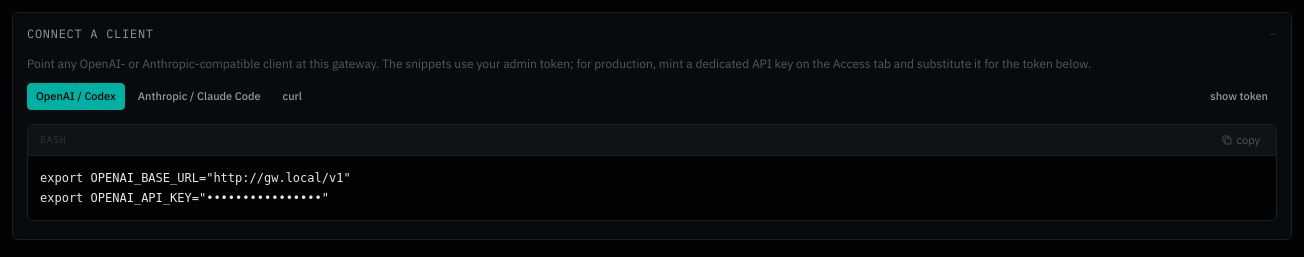
ConnectYourClient › masks the token until the operator clicks 'show token'
Check: the text "OPENAI_API_KEY=" is shown, box [40, 171, 351, 205]
Click the button "show token": (1239, 96) [1201, 83, 1277, 110]
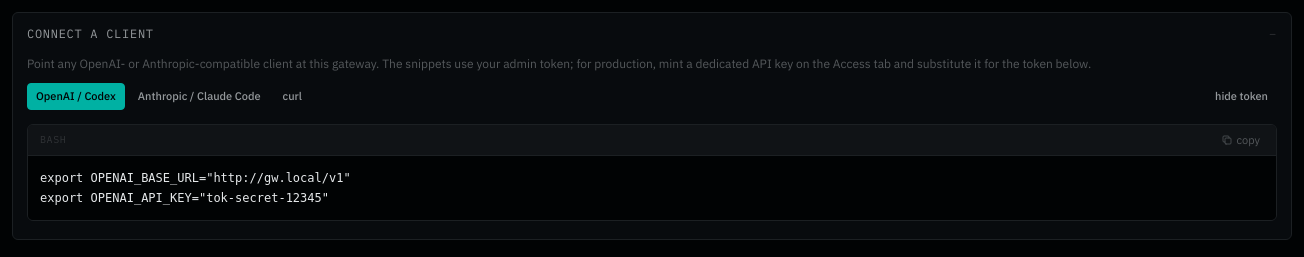
Check: the text "tok-secret-12345" is shown, box [40, 171, 351, 205]
